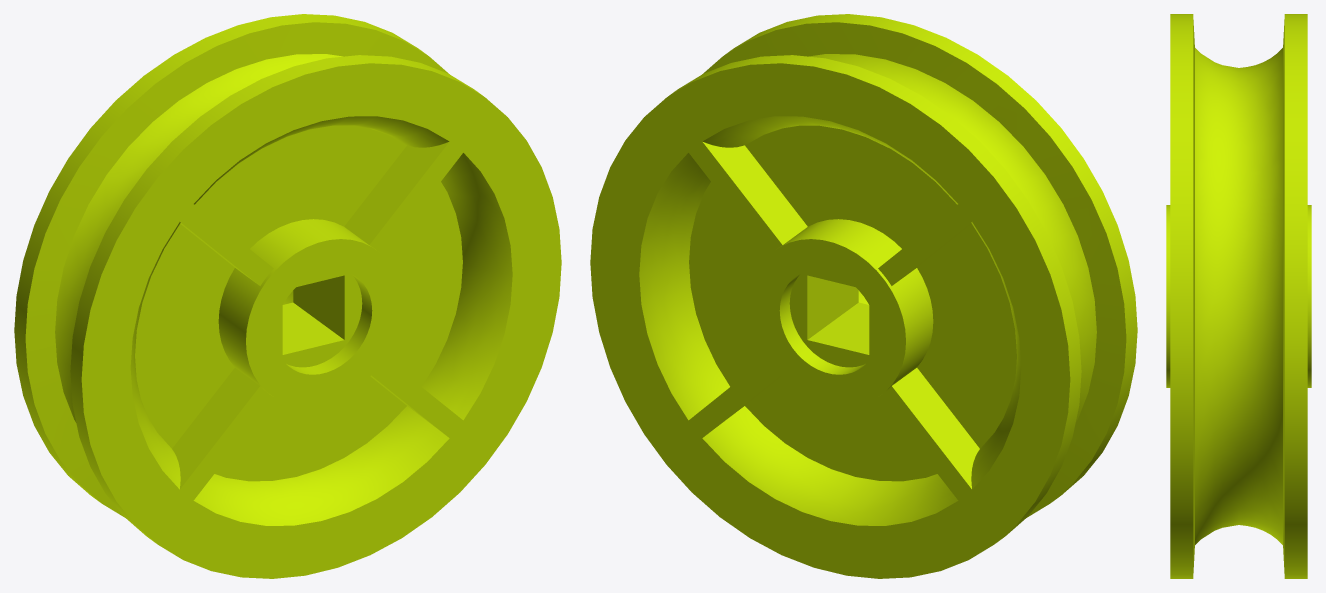
The picture shows the model from 3 angles, left to right: view 1: azimuth 30°, elevation 25°; view 2: azimuth 150°, elevation 25°; view 3: azimuth 270°, elevation 25°; orthographic projection. The views are drawn at different scales.
Visible parts, largest first — view 1: main_97d700; view 2: main_97d700; view 3: main_97d700.
Part boxes in pixels (x1,y1,x2,y2): main_97d700: [14, 14, 561, 578]; main_97d700: [590, 14, 1137, 578]; main_97d700: [1166, 14, 1311, 578].
Bounding box in the file's own units: 24.7 × 24.64 × 6.35.
